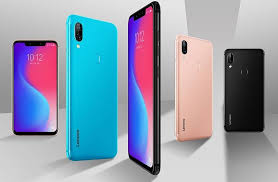lenovo: (64, 11, 120, 166)
